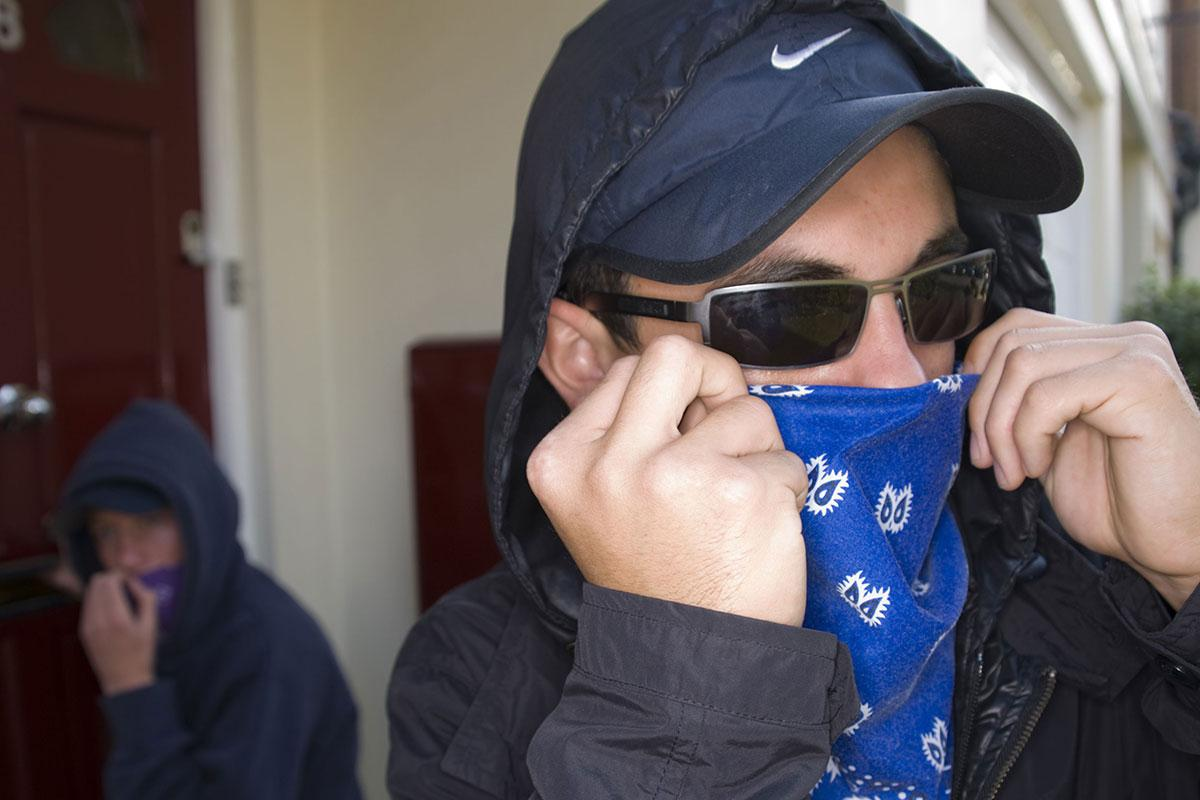cap: (482, 0, 1124, 282)
scarf-kerchief: (688, 366, 1052, 704)
sunglasses: (630, 246, 1058, 372)
